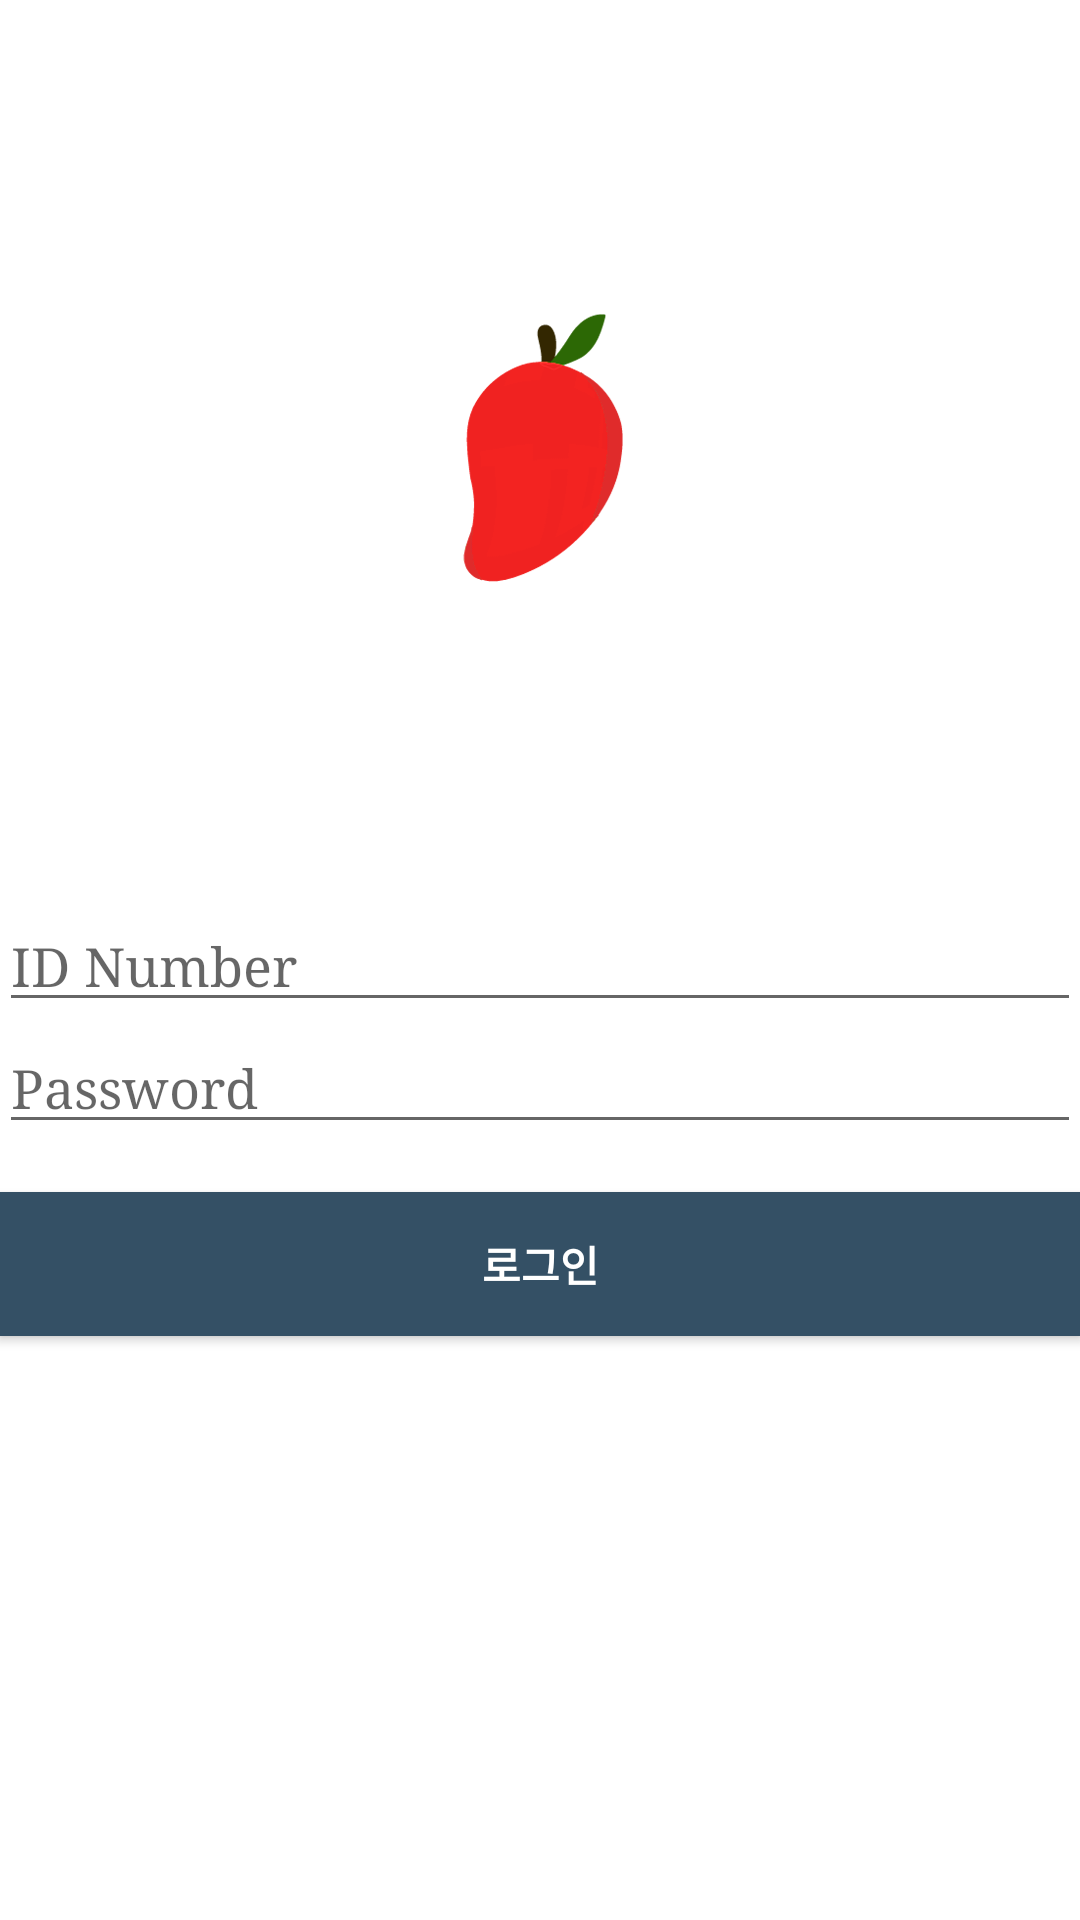

Icons on this 1080 x 1920 Android screen, each with the point to tap as point (x, y):
redmango: point (543, 448)
